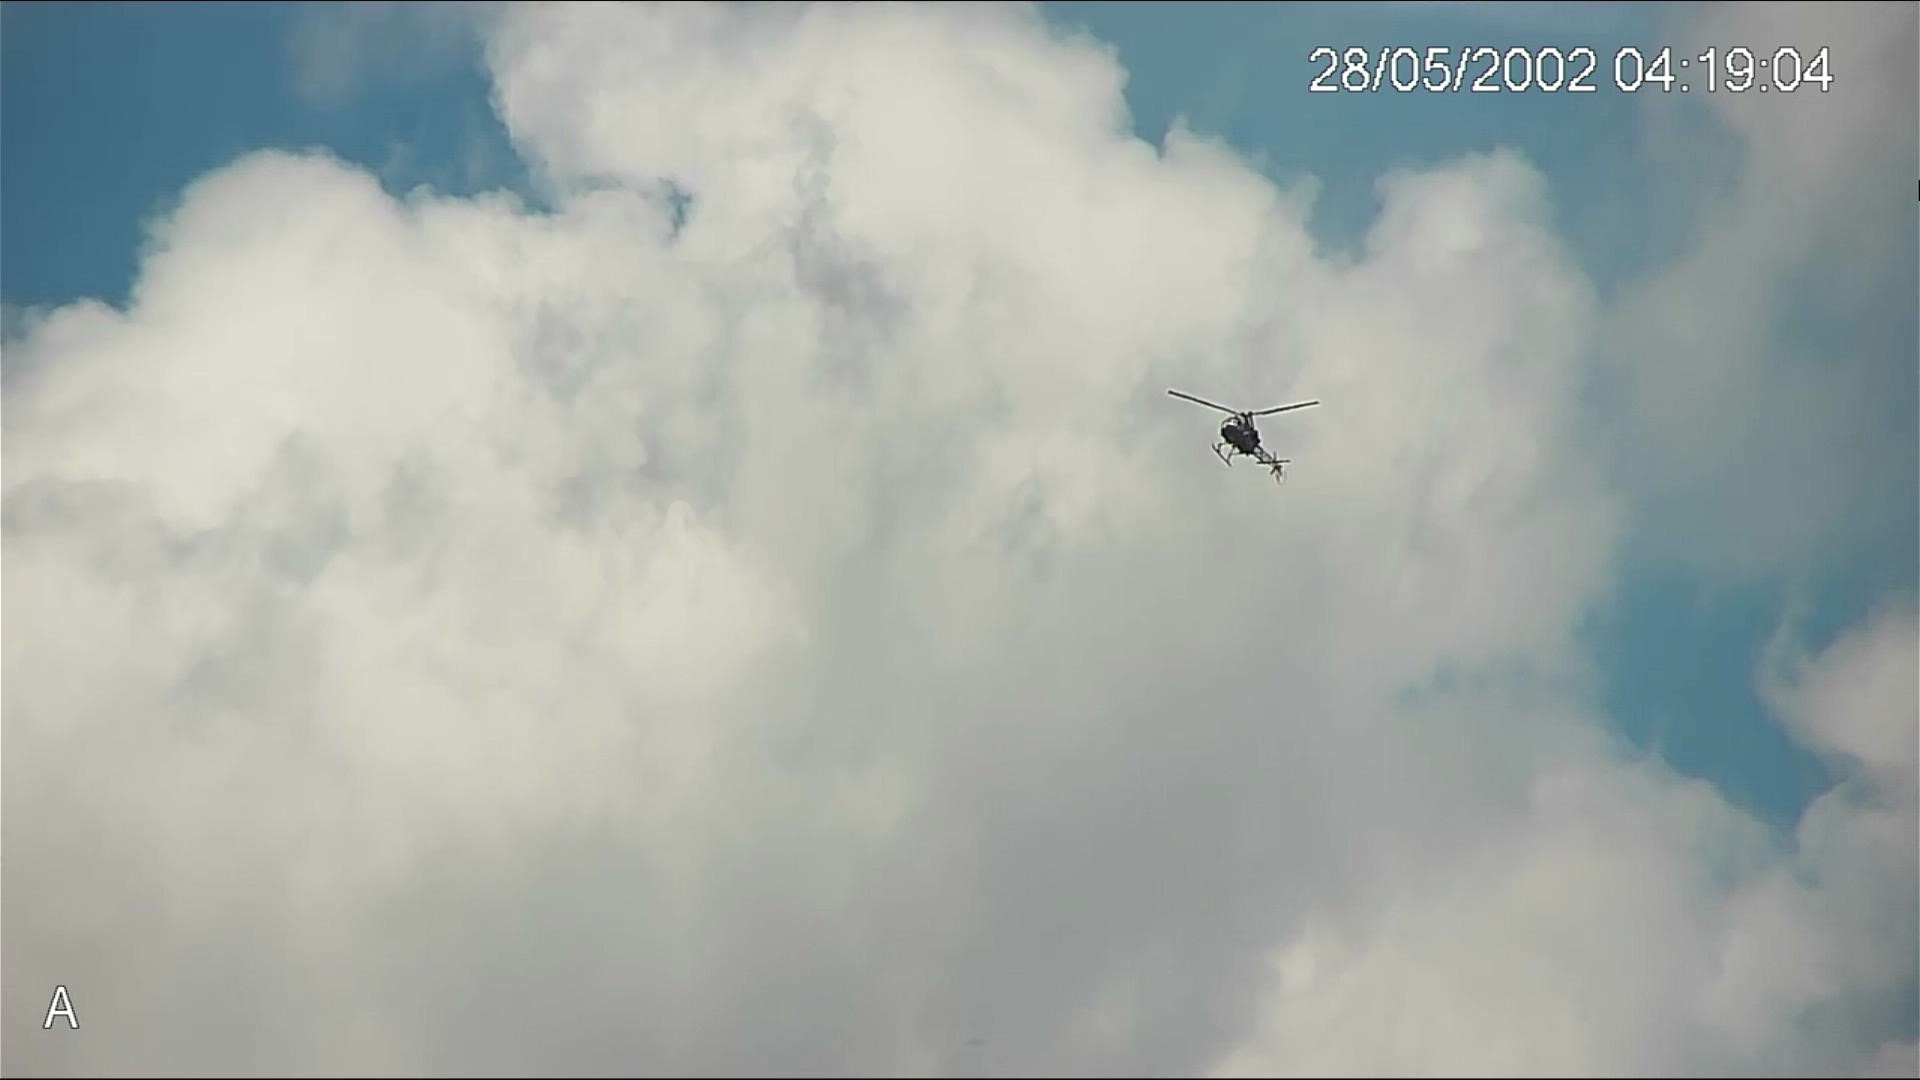SU_30: (1166, 388, 1298, 487)
